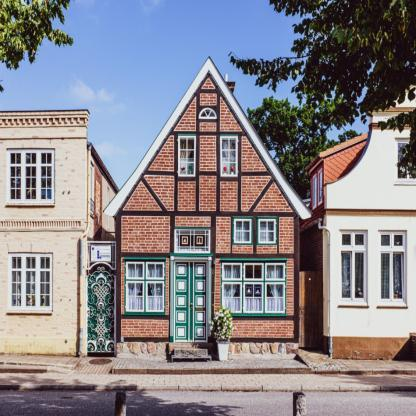Building Outline: (103, 56, 313, 360)
Corner Stone: (116, 341, 299, 360)
Dont: (208, 304, 237, 360)
Facade: (116, 195, 299, 361)
Floor Slab: (116, 211, 299, 215)
Ground Floor: (116, 215, 299, 361)
Roof: (103, 56, 314, 220)
Top Floor: (118, 69, 296, 211)
Window: (220, 258, 287, 316), (174, 260, 208, 344), (124, 258, 166, 316), (174, 230, 210, 253), (221, 136, 238, 176), (178, 136, 195, 176), (257, 217, 277, 245), (233, 217, 253, 245), (198, 107, 217, 119)
